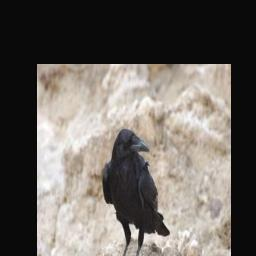Crow: (103, 127, 170, 256)
